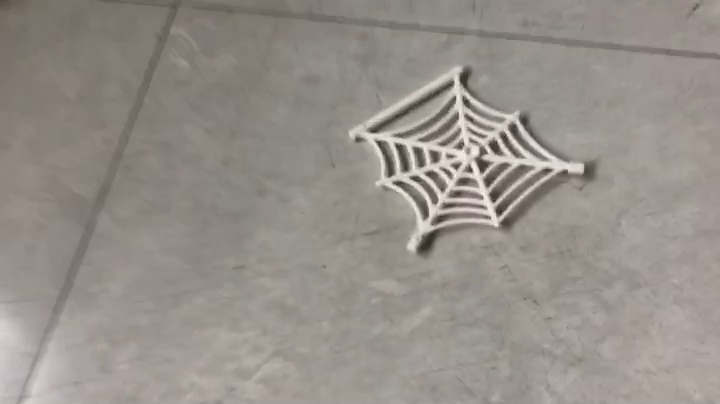web: (347, 64, 596, 259)
